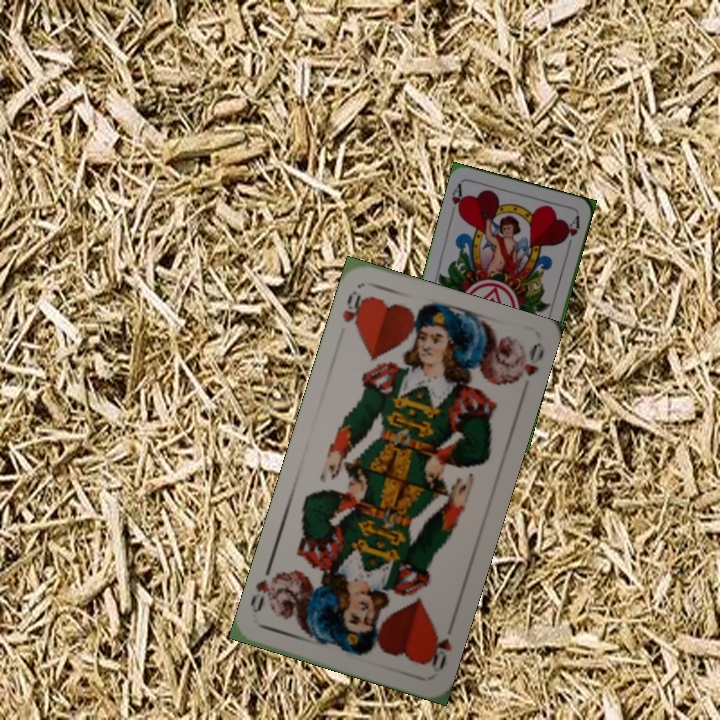HA: (448, 179, 468, 219)
HO: (423, 618, 457, 675), (338, 286, 370, 336)
